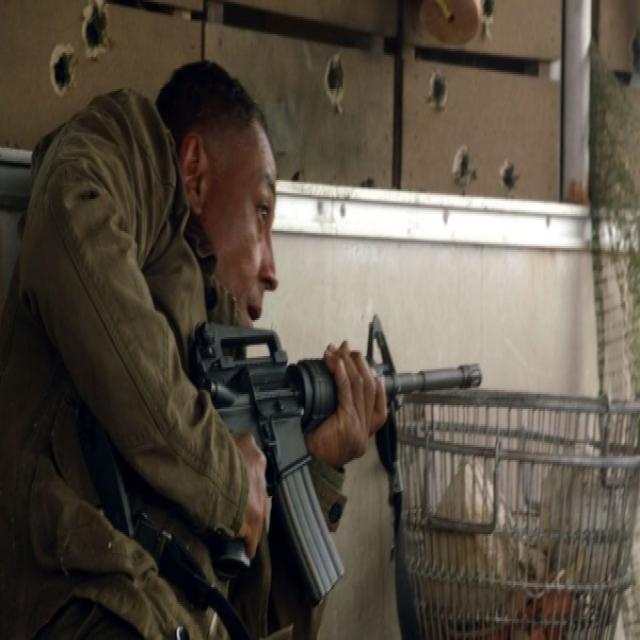rifle: (114, 302, 492, 610)
